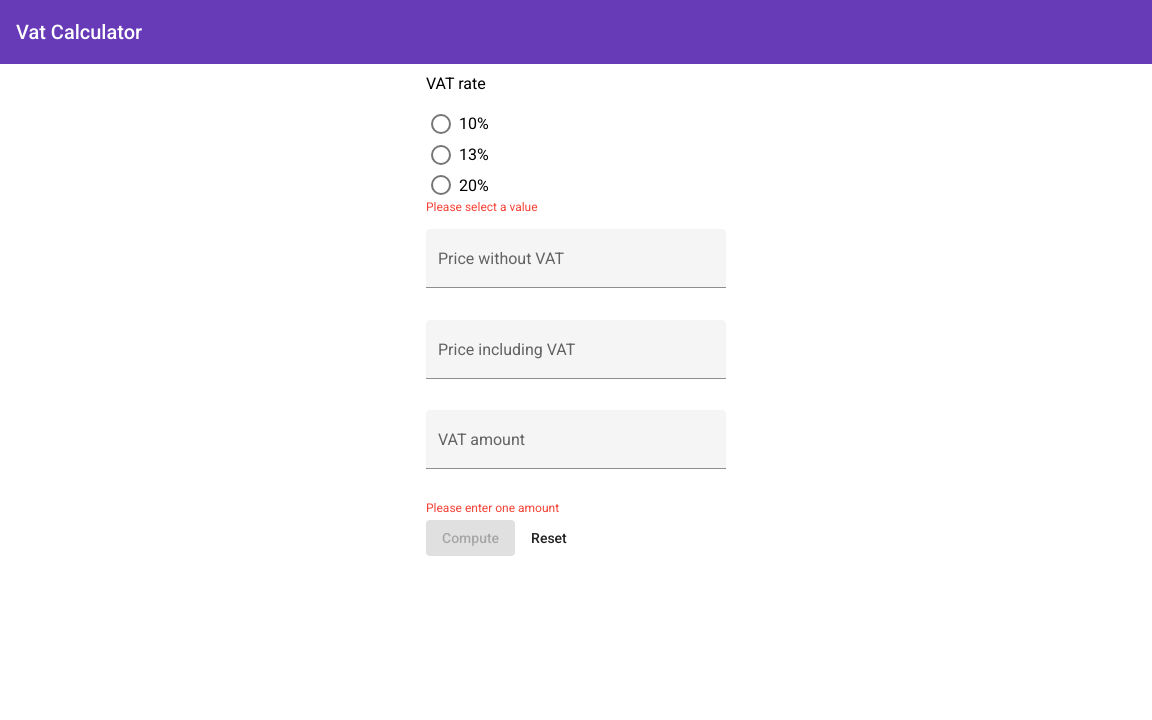
Test case: should correctly compute the price without VAT and the VAT amount given a valid VAT rate and price with VAT
The width and height of the screenshot is (1152, 720).
Click the text "10%". click: click(474, 124)
box: [459,114,489,133]
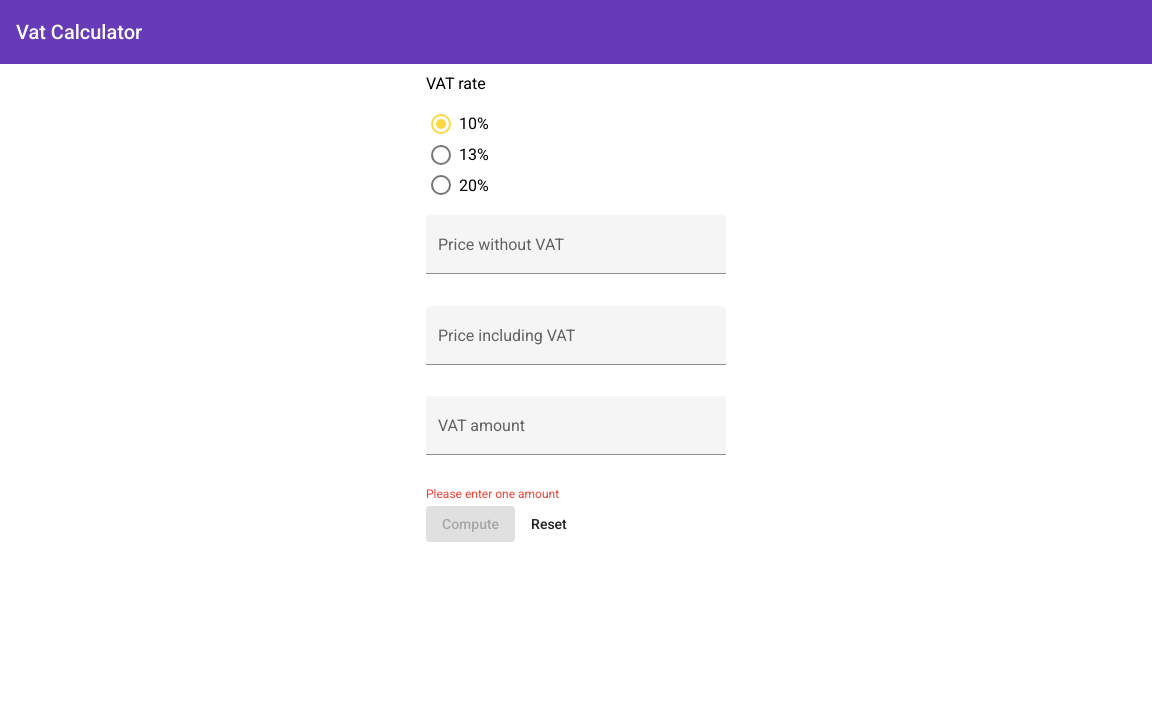
Type "11" into the element showing "Price including VAT". click: (576, 347)
box: [426,306,726,387]
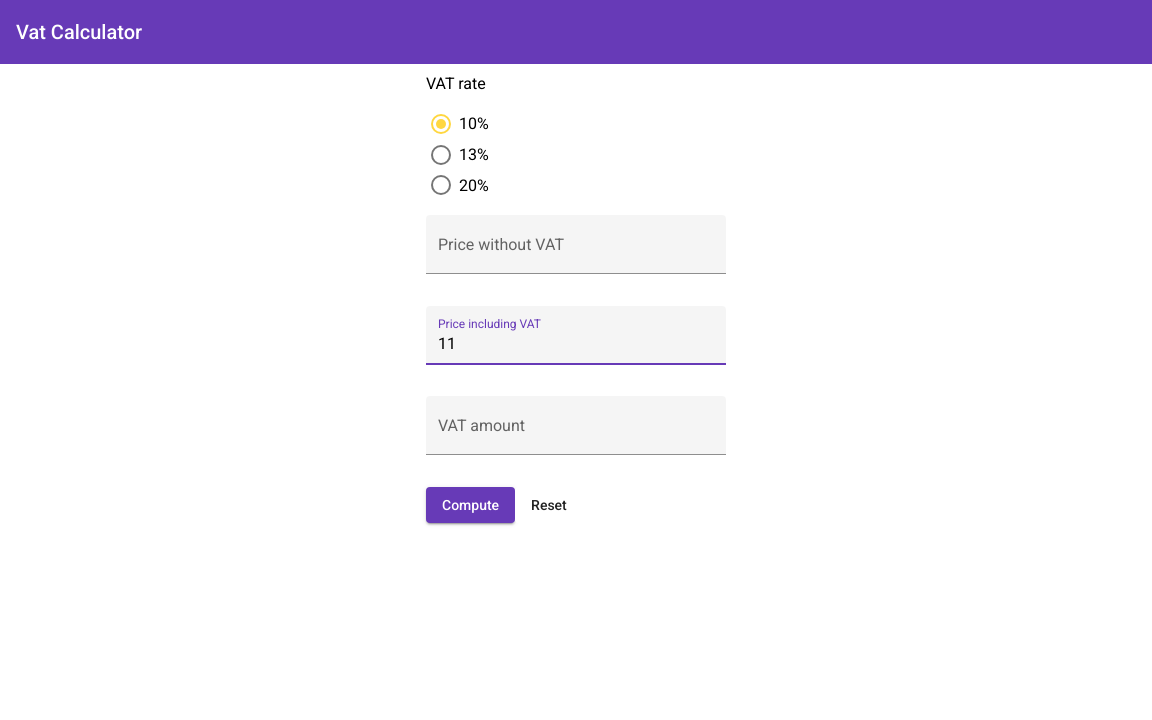
Click the submit button. click: click(471, 505)
box: [426,487,515,523]
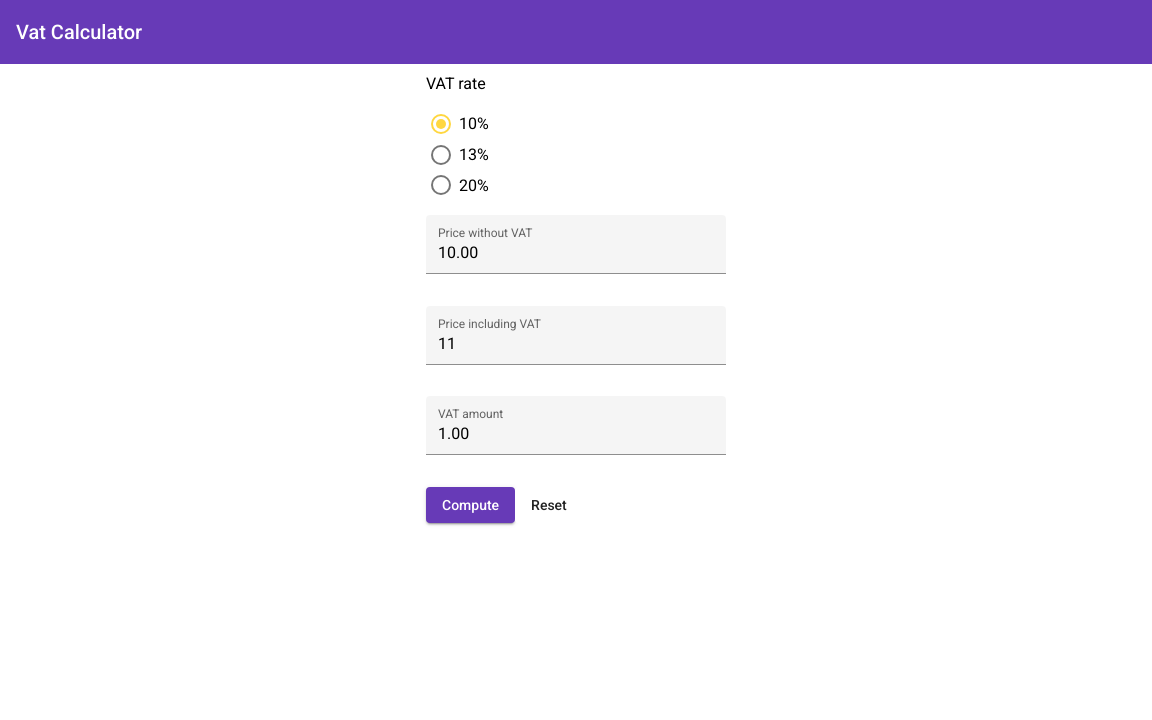
Expected: the field labelled "Price without VAT" holds "10.00", [438,244,714,262]
Expected: the field labelled "VAT amount" holds "1.00", [438,425,714,443]
